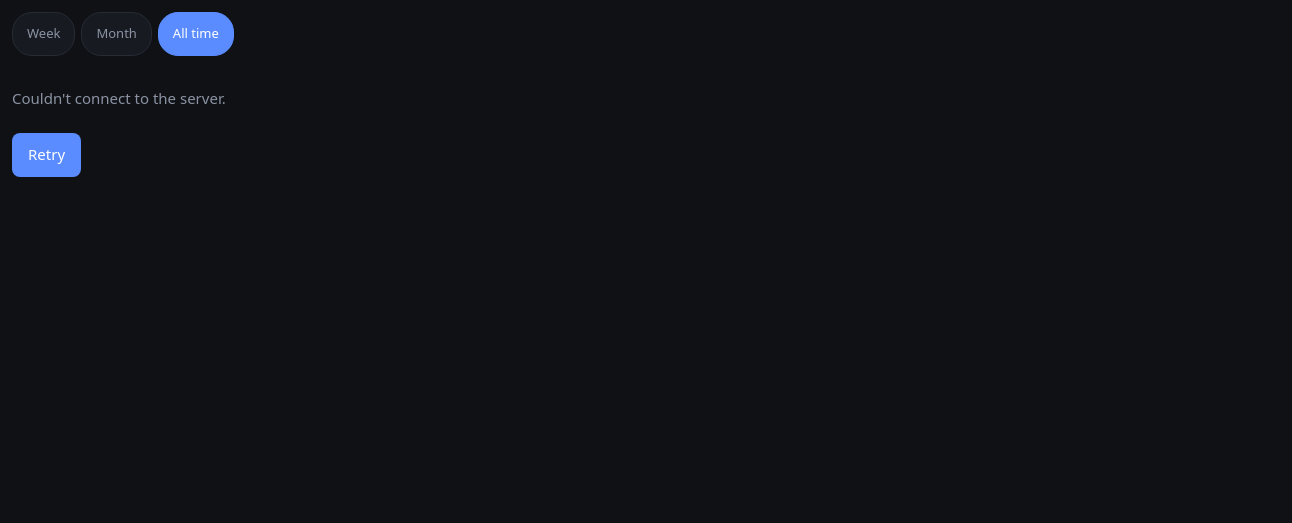
Test: UsageView three-state rendering › shows an error message with a working Retry on a generic fetch failure
Click the button "Retry": (47, 154) [12,132,81,176]
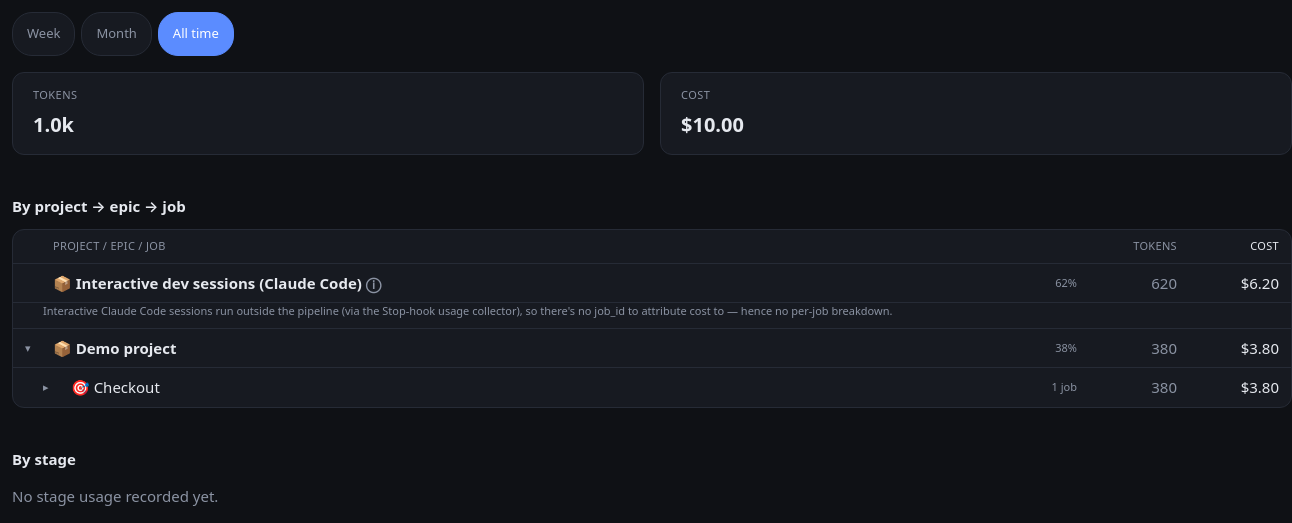
Now the text "📦 Interactive dev sessions (Claude Code) ⓘ" is shown, box [53,272,381,292]
